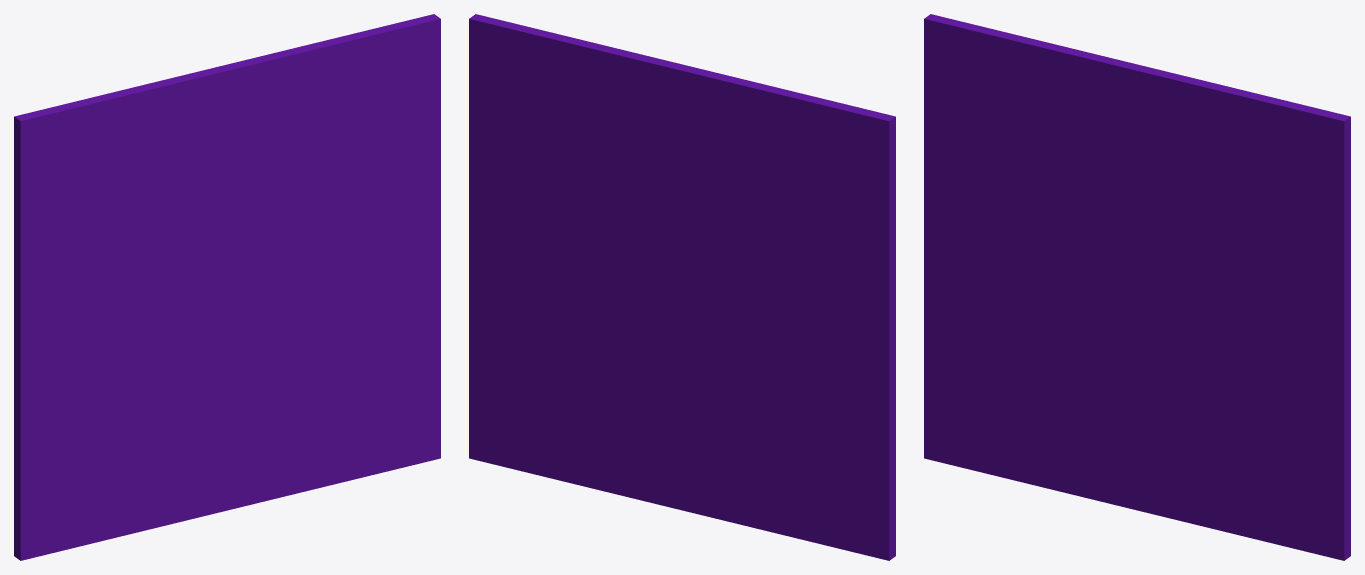
The model's file is MemorialFrame_3.006_chunks.fbx.
3 views of the same model, side by side, from view 1: azimuth 30°, elevation 25°; view 2: azimuth 150°, elevation 25°; view 3: azimuth 330°, elevation 25° (orthographic).
Visible parts, largest first — view 1: MemorialFrame_3.006_0, MemorialFrame_3.006_1, MemorialFrame_3.006_7, MemorialFrame_3.006_3, MemorialFrame_3.006_8, MemorialFrame_3.006_2, MemorialFrame_3.006_5, MemorialFrame_3.006_6, MemorialFrame_3.006_10, MemorialFrame_3.006_12, MemorialFrame_3.006_11, MemorialFrame_3.006_9; view 2: MemorialFrame_3.006_0, MemorialFrame_3.006_1, MemorialFrame_3.006_7, MemorialFrame_3.006_3, MemorialFrame_3.006_8, MemorialFrame_3.006_2, MemorialFrame_3.006_10, MemorialFrame_3.006_6, MemorialFrame_3.006_12, MemorialFrame_3.006_9, MemorialFrame_3.006_5, MemorialFrame_3.006_11 (+1 smaller); view 3: MemorialFrame_3.006_0, MemorialFrame_3.006_1, MemorialFrame_3.006_7, MemorialFrame_3.006_3, MemorialFrame_3.006_8, MemorialFrame_3.006_2, MemorialFrame_3.006_5, MemorialFrame_3.006_10, MemorialFrame_3.006_6, MemorialFrame_3.006_12, MemorialFrame_3.006_11, MemorialFrame_3.006_9.
Boxes of the visible parts, x1=… form: MemorialFrame_3.006_0: x1=14, y1=286, x2=271, y2=560; MemorialFrame_3.006_1: x1=14, y1=79, x2=220, y2=357; MemorialFrame_3.006_7: x1=295, y1=14, x2=440, y2=187; MemorialFrame_3.006_3: x1=249, y1=340, x2=440, y2=499; MemorialFrame_3.006_8: x1=160, y1=47, x2=297, y2=151; MemorialFrame_3.006_2: x1=235, y1=213, x2=363, y2=368; MemorialFrame_3.006_5: x1=179, y1=148, x2=305, y2=280; MemorialFrame_3.006_6: x1=220, y1=170, x2=404, y2=292; MemorialFrame_3.006_10: x1=375, y1=287, x2=440, y2=452; MemorialFrame_3.006_12: x1=377, y1=165, x2=440, y2=297; MemorialFrame_3.006_11: x1=320, y1=286, x2=388, y2=390; MemorialFrame_3.006_9: x1=338, y1=203, x2=379, y2=289; MemorialFrame_3.006_0: x1=647, y1=297, x2=895, y2=560; MemorialFrame_3.006_1: x1=673, y1=82, x2=895, y2=362; MemorialFrame_3.006_7: x1=469, y1=14, x2=620, y2=181; MemorialFrame_3.006_3: x1=469, y1=343, x2=669, y2=501; MemorialFrame_3.006_8: x1=602, y1=49, x2=754, y2=185; MemorialFrame_3.006_2: x1=536, y1=195, x2=682, y2=372; MemorialFrame_3.006_10: x1=469, y1=277, x2=542, y2=447; MemorialFrame_3.006_6: x1=514, y1=166, x2=681, y2=280; MemorialFrame_3.006_12: x1=469, y1=154, x2=520, y2=286; MemorialFrame_3.006_9: x1=517, y1=184, x2=572, y2=302; MemorialFrame_3.006_5: x1=628, y1=183, x2=703, y2=254; MemorialFrame_3.006_11: x1=532, y1=299, x2=577, y2=372; MemorialFrame_3.006_0: x1=924, y1=247, x2=1174, y2=519; MemorialFrame_3.006_1: x1=924, y1=14, x2=1124, y2=281; MemorialFrame_3.006_7: x1=1198, y1=83, x2=1350, y2=272; MemorialFrame_3.006_3: x1=1152, y1=377, x2=1350, y2=560; MemorialFrame_3.006_8: x1=1064, y1=52, x2=1213, y2=184; MemorialFrame_3.006_2: x1=1139, y1=278, x2=1266, y2=383; MemorialFrame_3.006_5: x1=1082, y1=123, x2=1208, y2=275; MemorialFrame_3.006_10: x1=1278, y1=374, x2=1350, y2=554; MemorialFrame_3.006_6: x1=1123, y1=207, x2=1307, y2=294; MemorialFrame_3.006_12: x1=1280, y1=252, x2=1350, y2=389; MemorialFrame_3.006_11: x1=1224, y1=341, x2=1291, y2=461; MemorialFrame_3.006_9: x1=1241, y1=275, x2=1283, y2=357.
Bounding box in the file's own units: 797 × 797 × 21.54.
